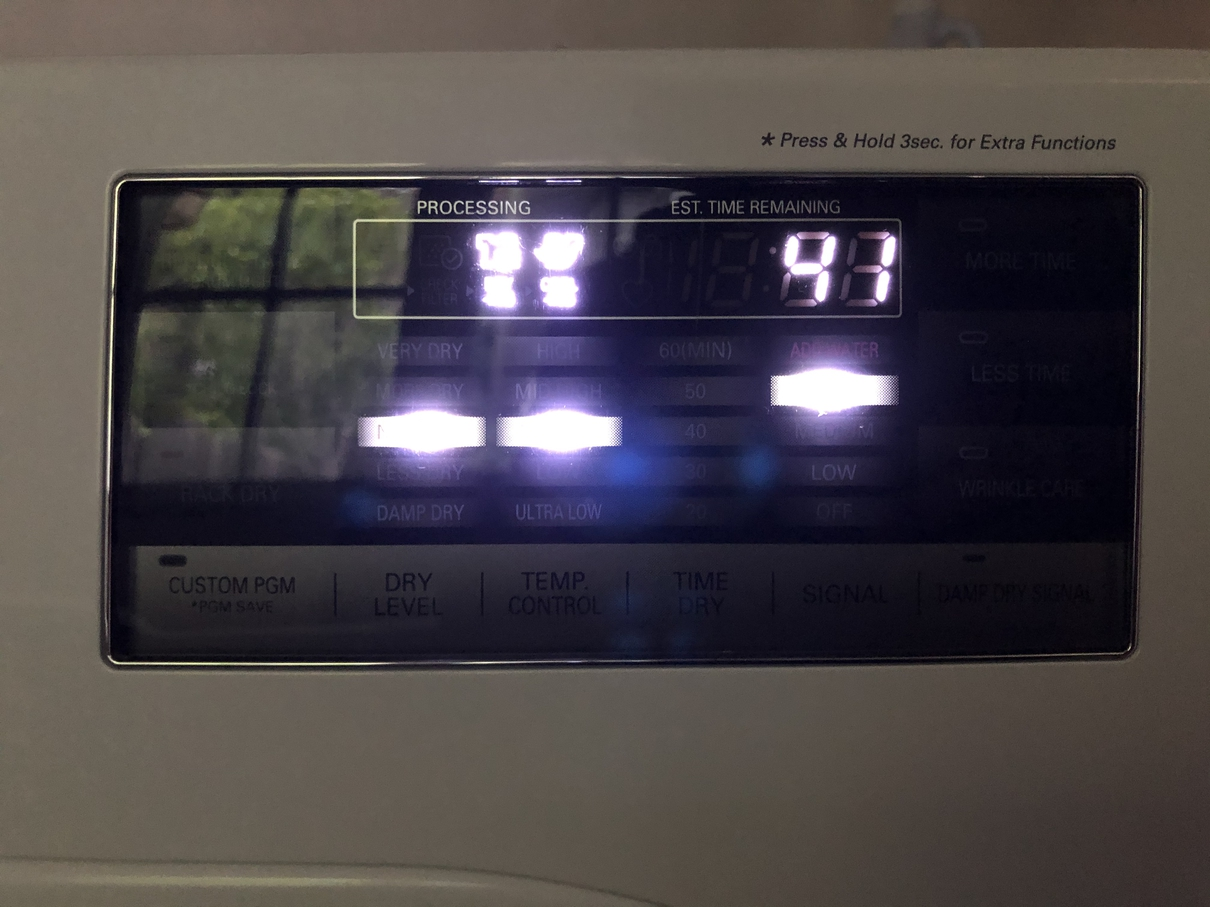status: (336, 175, 913, 333)
